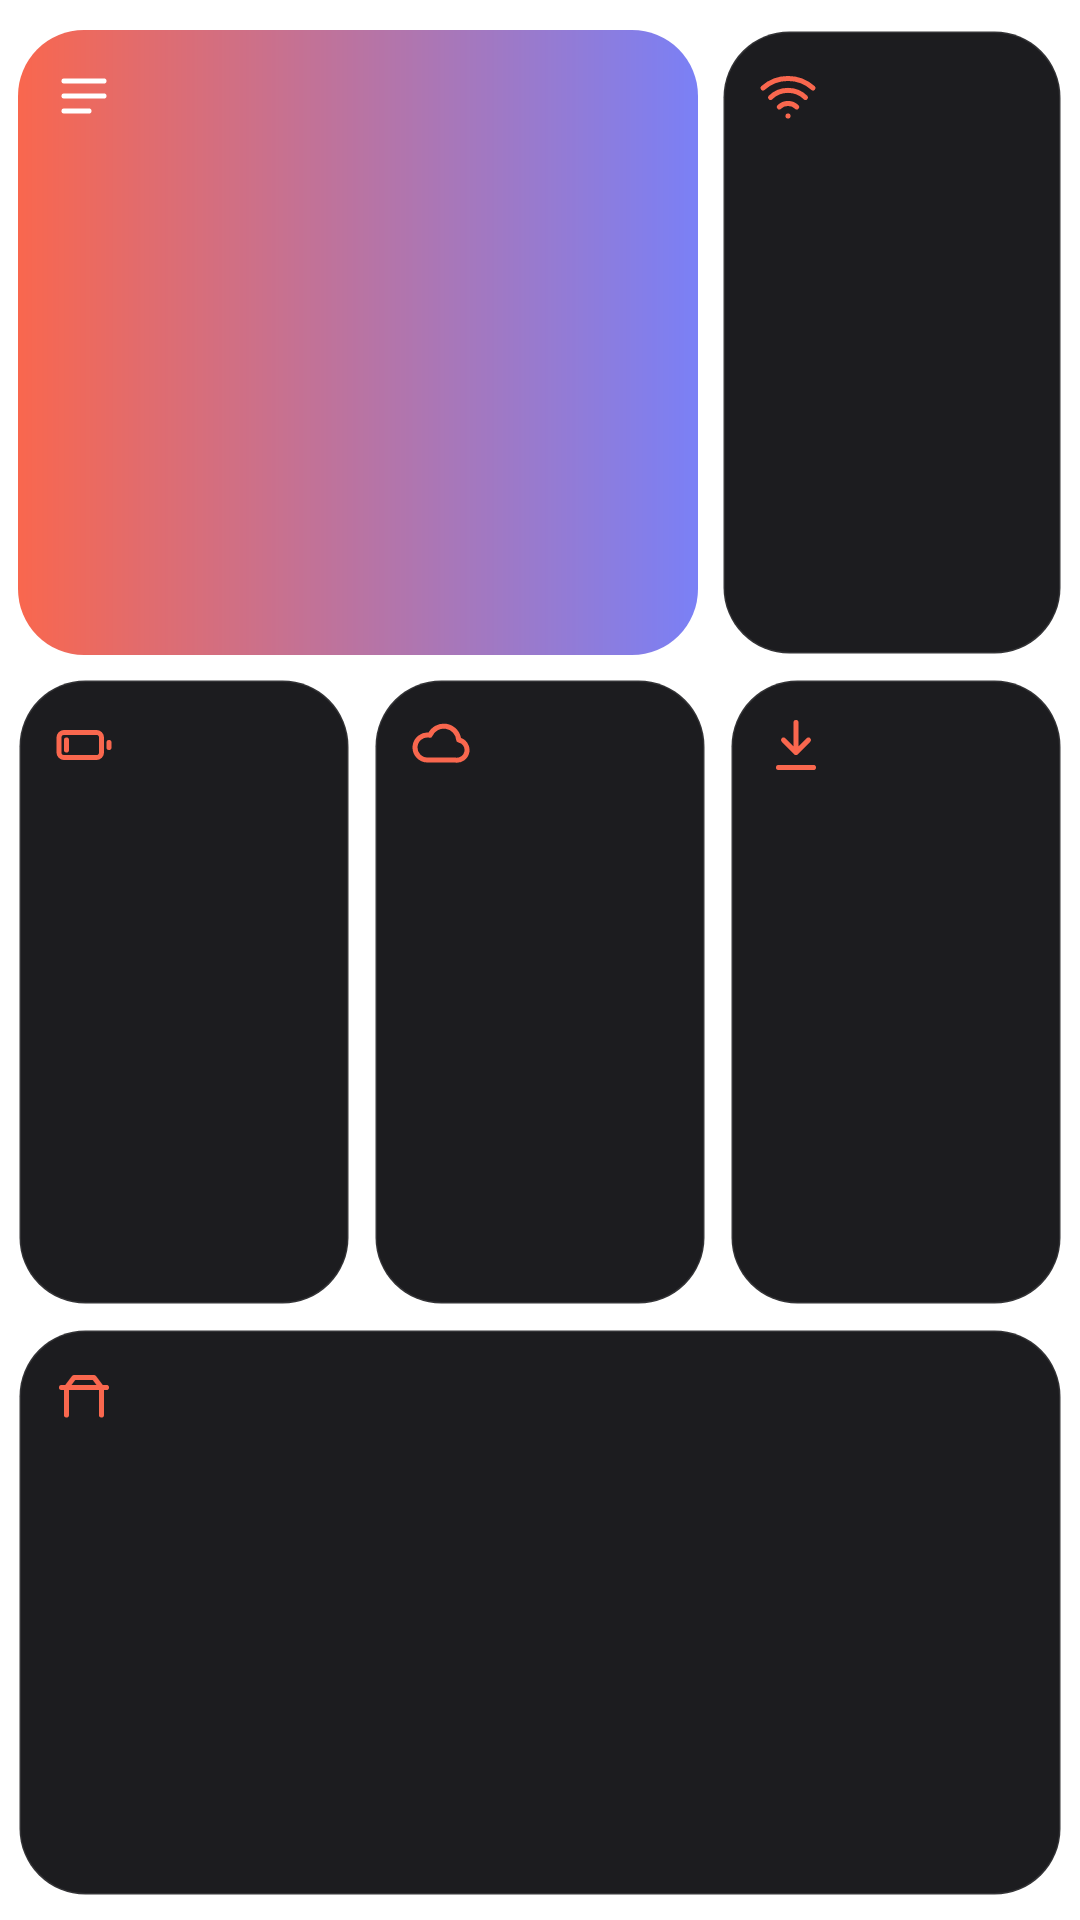

Icon click points for this 1080px x 1920px phone screenshot, format point (x, y):
home batt: point (84, 745)
home cloud: point (441, 743)
home menu: point (84, 96)
home table: point (84, 1396)
home update: point (796, 745)
home wifi: point (788, 97)
